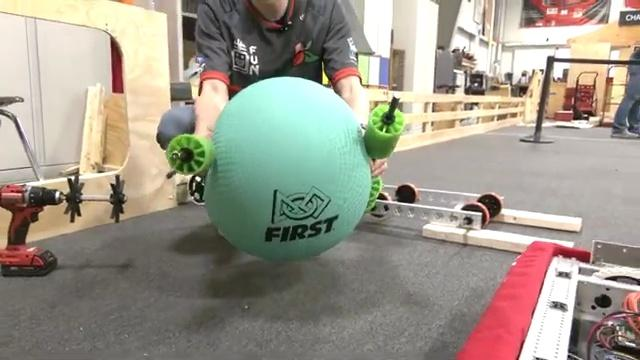ALGAE: (202, 75, 376, 261)
